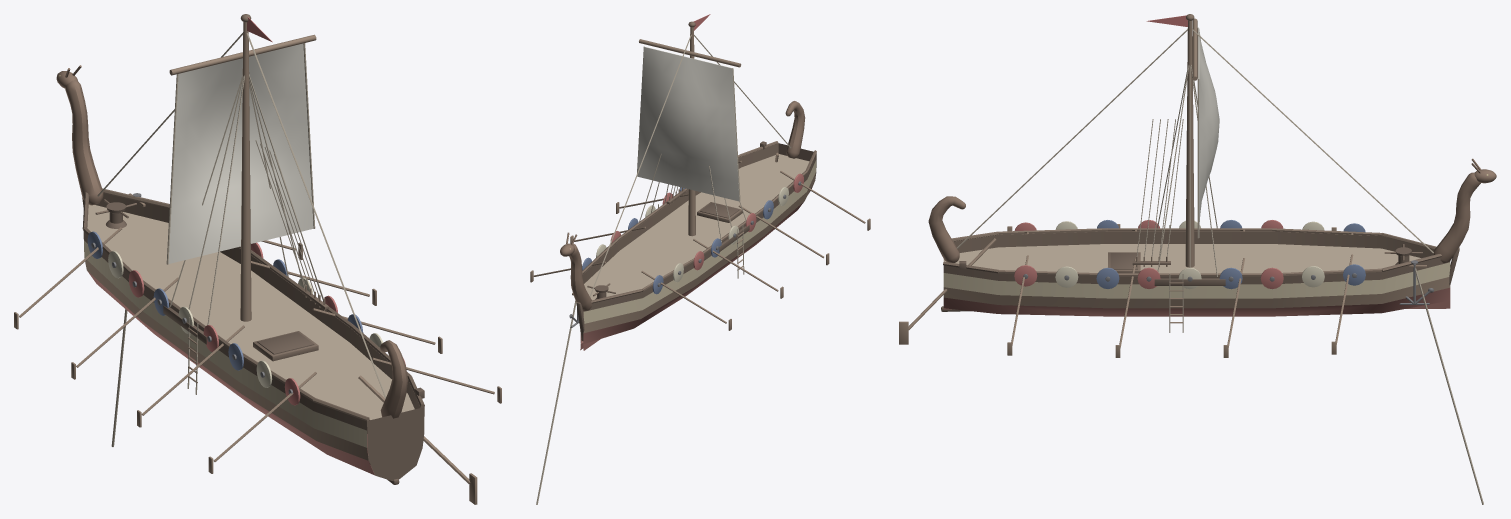
Rendered from ship_longboat.gltf.
3 views of the same model, side by side, from view 1: azimuth 30°, elevation 25°; view 2: azimuth 150°, elevation 25°; view 3: azimuth 270°, elevation 25° (orthographic). The views are drawn at different scales.
Parts seen in each view (by area): view 1: Body, Sail, OarsL, OarsR, Yard, Wheel; view 2: Body, Sail, OarsL, OarsR, Yard, AnchorRope; view 3: Body, Sail, OarsR.
Part boxes in pixels (bbox=[...]): Body: bbox=[56, 14, 424, 484]; Sail: bbox=[166, 43, 315, 264]; OarsL: bbox=[14, 227, 316, 473]; OarsR: bbox=[251, 240, 501, 403]; Yard: bbox=[169, 34, 316, 75]; Wheel: bbox=[358, 375, 477, 504]; Body: bbox=[560, 21, 816, 350]; Sail: bbox=[637, 46, 740, 201]; OarsL: bbox=[641, 171, 870, 330]; OarsR: bbox=[530, 161, 741, 282]; Yard: bbox=[639, 39, 741, 67]; AnchorRope: bbox=[536, 300, 576, 504]; Body: bbox=[928, 14, 1496, 332]; Sail: bbox=[1197, 27, 1219, 238]; OarsR: bbox=[1007, 254, 1353, 357].
Size of the model in its own units: 10.52 by 19.03 by 21.82.
